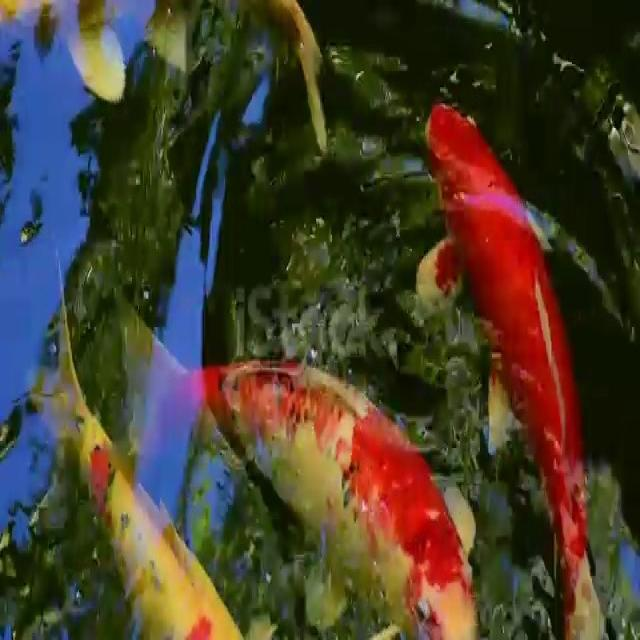fish: (143, 309, 485, 640), (418, 95, 614, 640), (26, 297, 252, 640), (21, 0, 354, 152)
